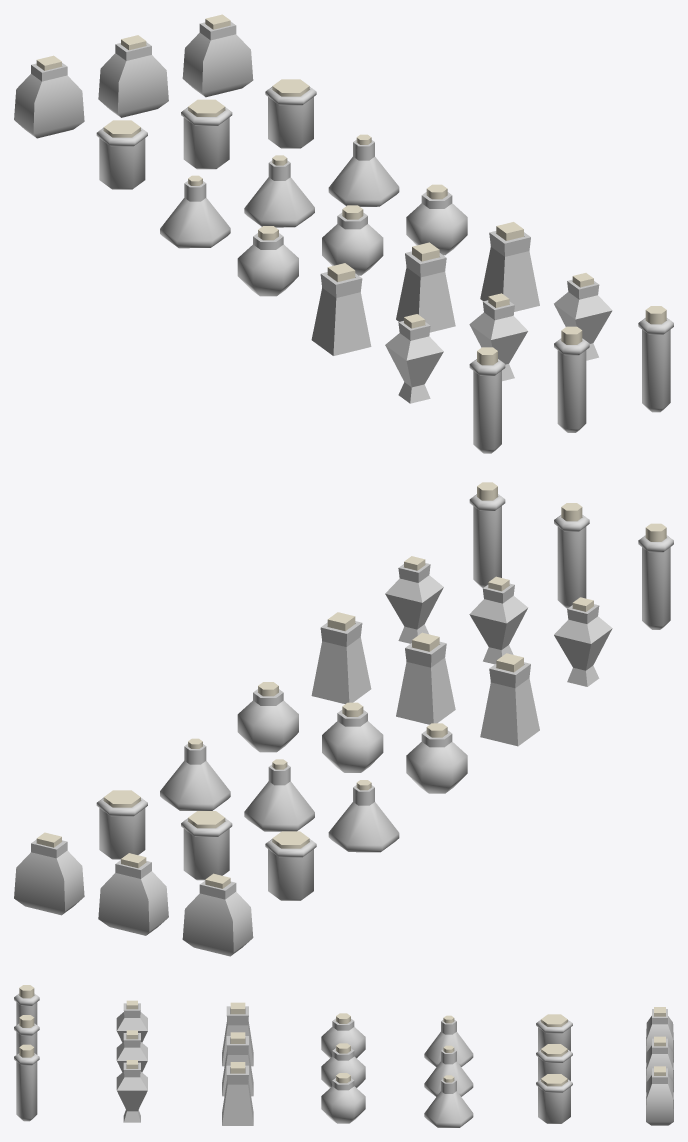
Rendered from potions_0.glb.
3 renders of one model, top to bottom at view 1: azimuth 30°, elevation 25°; view 2: azimuth 150°, elevation 25°; view 3: azimuth 270°, elevation 25°, orthographic. The views are drawn at different scales.
Visible parts, largest first — view 1: EmptyElixir, ManaElixir, HealthElixir, ManaPotion, EmptyPotion, HealthPotion, ManaBomb, ManaVial, ManaFlask, HealthJar, ManaJar, HealthFlask (+9 smaller); view 2: ManaElixir, EmptyElixir, HealthElixir, ManaPotion, HealthPotion, EmptyPotion, ManaBomb, HealthBomb, EmptyBomb, ManaVial, HealthFlask, ManaFlask (+9 smaller); view 3: EmptyPotion, EmptyBomb, EmptyTube, EmptyFlask, EmptyJar, EmptyElixir, EmptyVial, ManaBomb, HealthBomb, HealthFlask, ManaFlask, HealthJar (+9 smaller).
Part boxes in pixels (box(x1,y1,x2,y2)): EmptyElixir: box(182, 14, 253, 97); ManaElixir: box(14, 55, 84, 138); HealthElixir: box(98, 35, 168, 117); ManaPotion: box(311, 263, 371, 355); EmptyPotion: box(480, 222, 539, 311); HealthPotion: box(396, 242, 455, 332); ManaBomb: box(237, 226, 298, 296); ManaVial: box(385, 314, 443, 403); ManaFlask: box(160, 175, 230, 248); HealthJar: box(181, 99, 232, 169); ManaJar: box(96, 120, 147, 189); HealthFlask: box(244, 155, 314, 227); ManaElixir: box(182, 873, 253, 956); EmptyElixir: box(14, 832, 84, 915); HealthElixir: box(98, 853, 168, 935); ManaPotion: box(480, 653, 539, 746); HealthPotion: box(396, 632, 455, 724); EmptyPotion: box(311, 612, 371, 703); ManaBomb: box(406, 723, 467, 793); HealthBomb: box(322, 702, 383, 772); EmptyBomb: box(237, 682, 298, 752); ManaVial: box(554, 597, 612, 686); HealthFlask: box(244, 759, 314, 831); ManaFlask: box(328, 780, 399, 852); EmptyPotion: box(222, 1062, 253, 1125); EmptyBomb: box(321, 1073, 365, 1123); EmptyTube: box(14, 1044, 39, 1121); EmptyFlask: box(424, 1075, 473, 1127); EmptyJar: box(536, 1074, 572, 1123); EmptyElixir: box(646, 1066, 673, 1125); EmptyVial: box(116, 1060, 147, 1122); ManaBomb: box(321, 1013, 365, 1058); HealthBomb: box(321, 1043, 365, 1087); HealthFlask: box(424, 1045, 473, 1096); ManaFlask: box(424, 1015, 473, 1066); HealthJar: box(536, 1044, 572, 1080).
Size of the model in its own units: 0.5273 by 0.2255 by 1.88.
